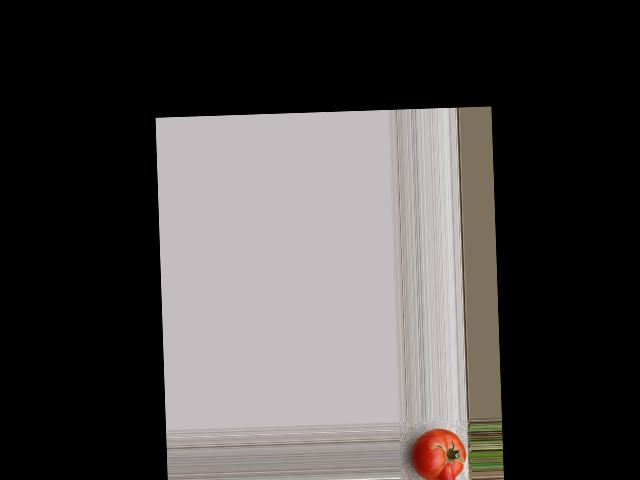tomato: (411, 427, 466, 480)
